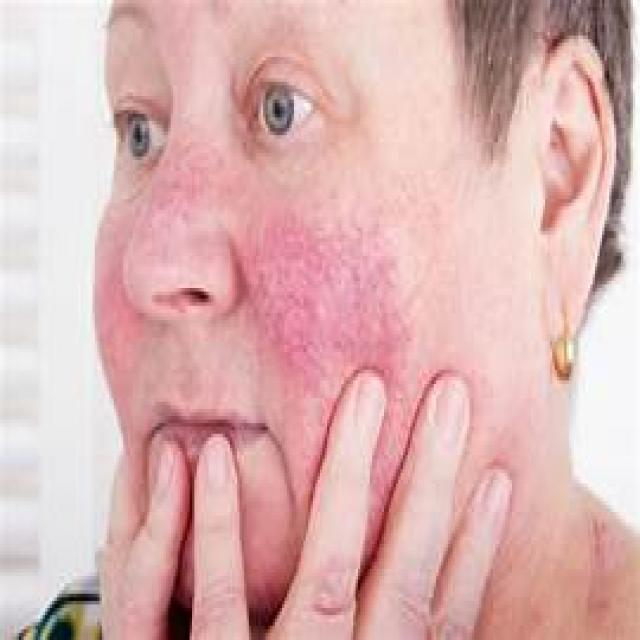Rosacea: (245, 212, 392, 380), (93, 262, 130, 374), (150, 160, 205, 227)
